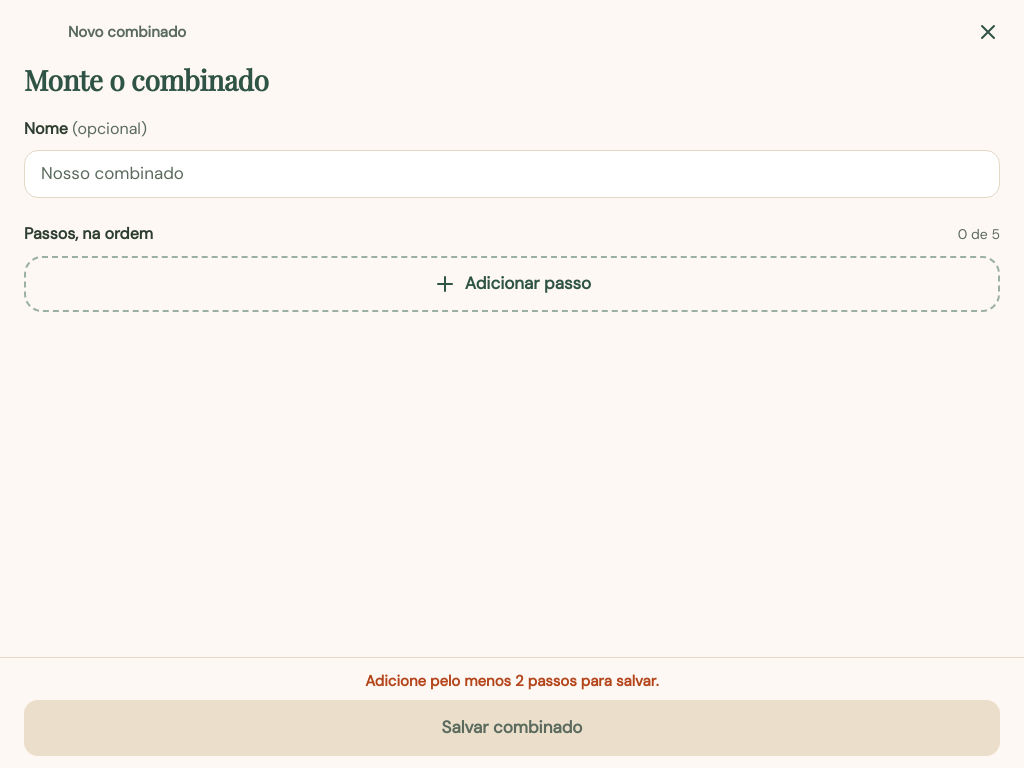
Test case: combinados › impede salvar com menos de 2 passos e explica o que falta
Check: the button "Salvar combinado" is disabled, box [24,700,1000,756]
Check: the text "Adicione pelo menos 2 passos para salvar." is shown, box [365,670,659,690]
Click the button "Adicionar passo". click: (512, 284)
box: [24,256,1000,312]
(page scrolled)
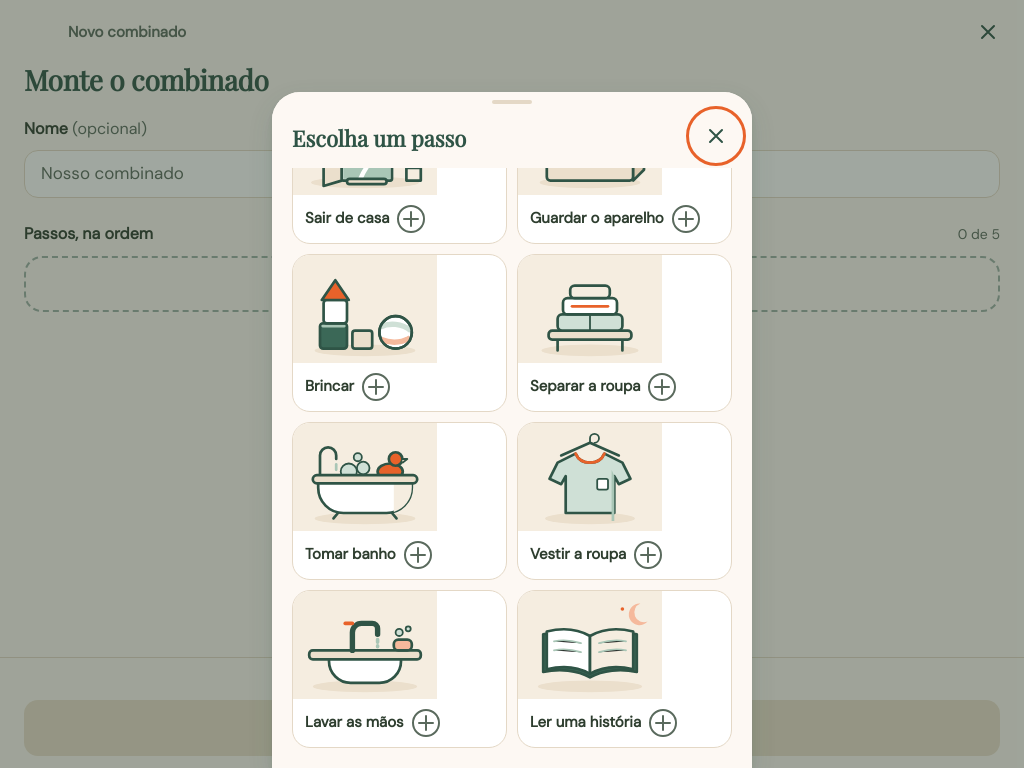
Click the button with aria-label "Adicionar Vestir a roupa". click: (624, 501)
box: [517,422,732,580]
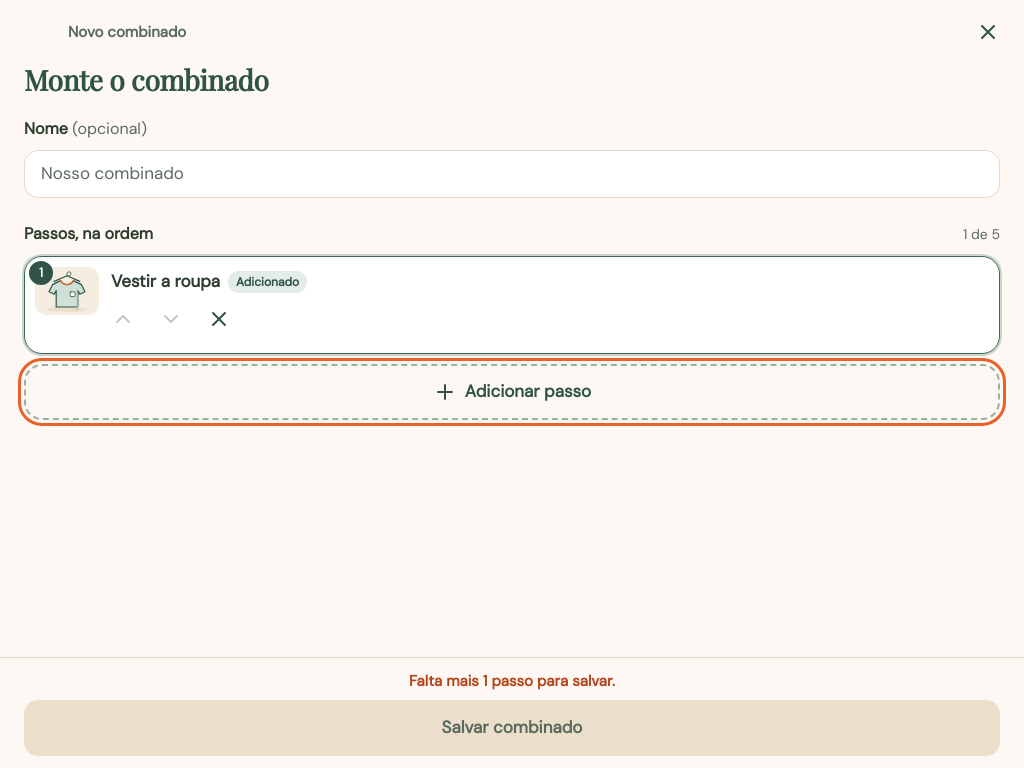
Check: the text "Falta mais 1 passo para salvar." is shown, box [409,670,615,690]
Click the button "Adicionar passo". click: (512, 392)
box: [24,364,1000,420]
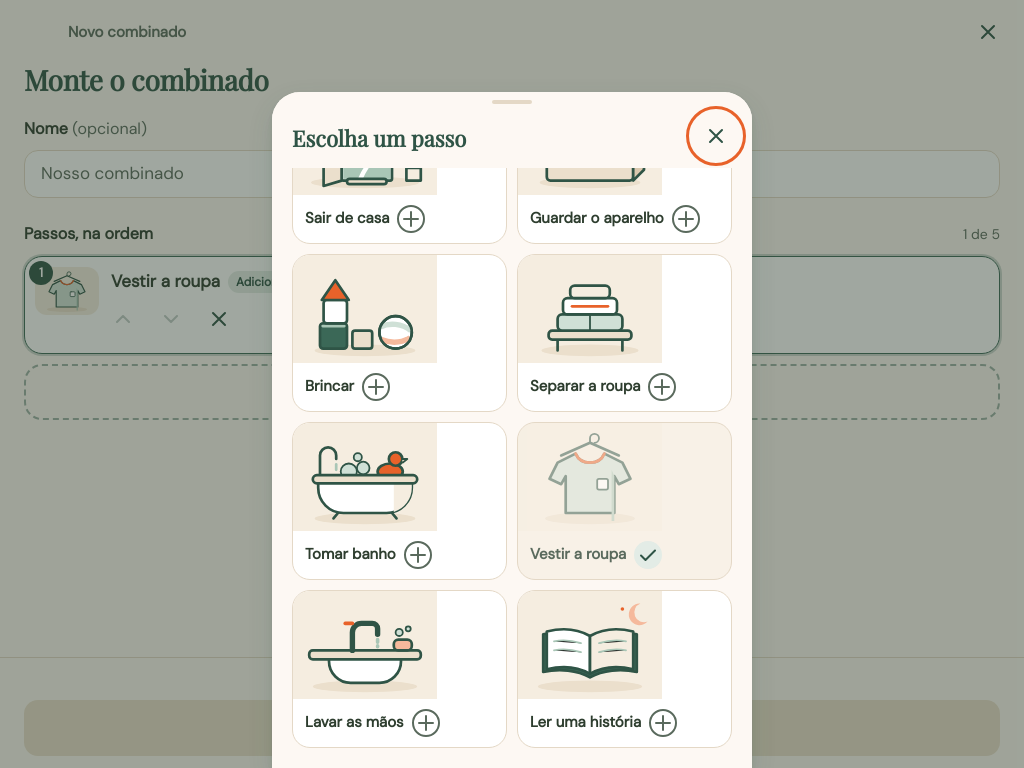
Click the button with aria-label "Adicionar Ler uma história". click: (624, 669)
box: [517,590,732,748]
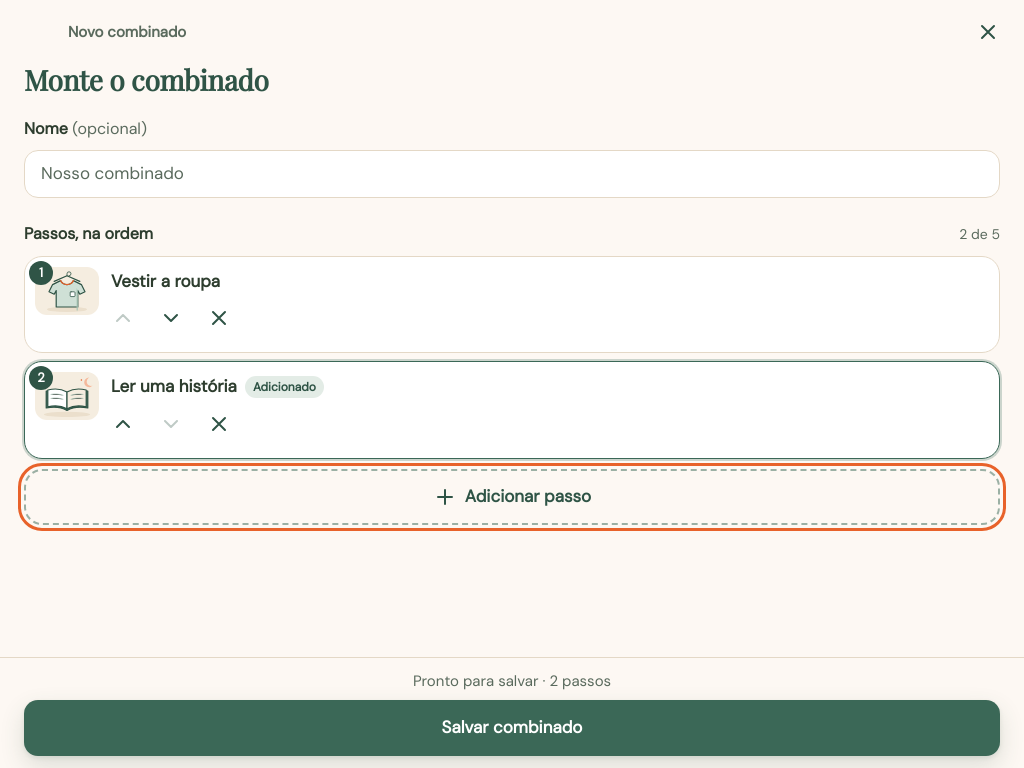
Check: the button "Salvar combinado" is enabled, box [24,700,1000,756]
